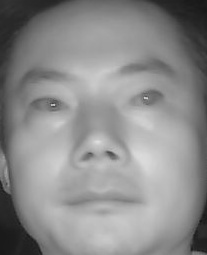eye: (123, 86, 166, 113), (26, 91, 70, 117)
mouth: (64, 178, 144, 221)
